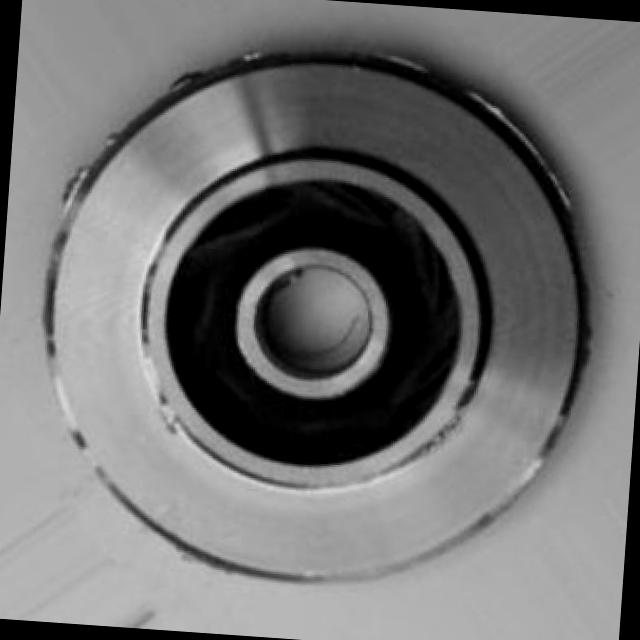Defect: (62, 162, 93, 212)
